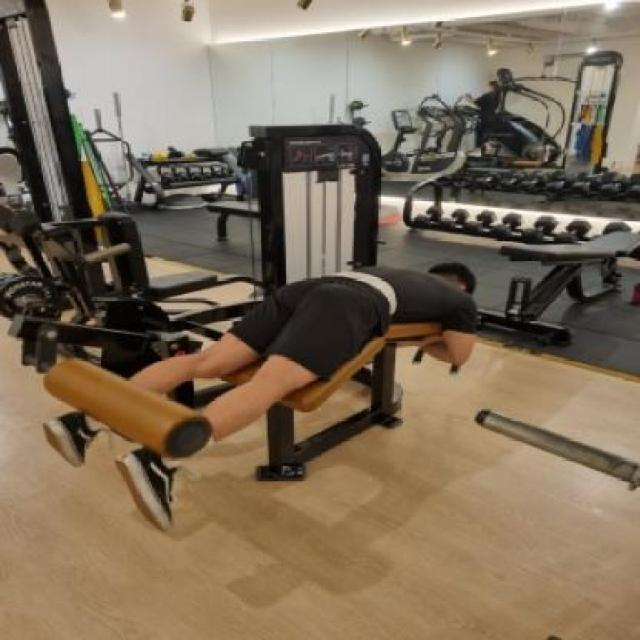reg curl machine: (6, 120, 486, 543)
